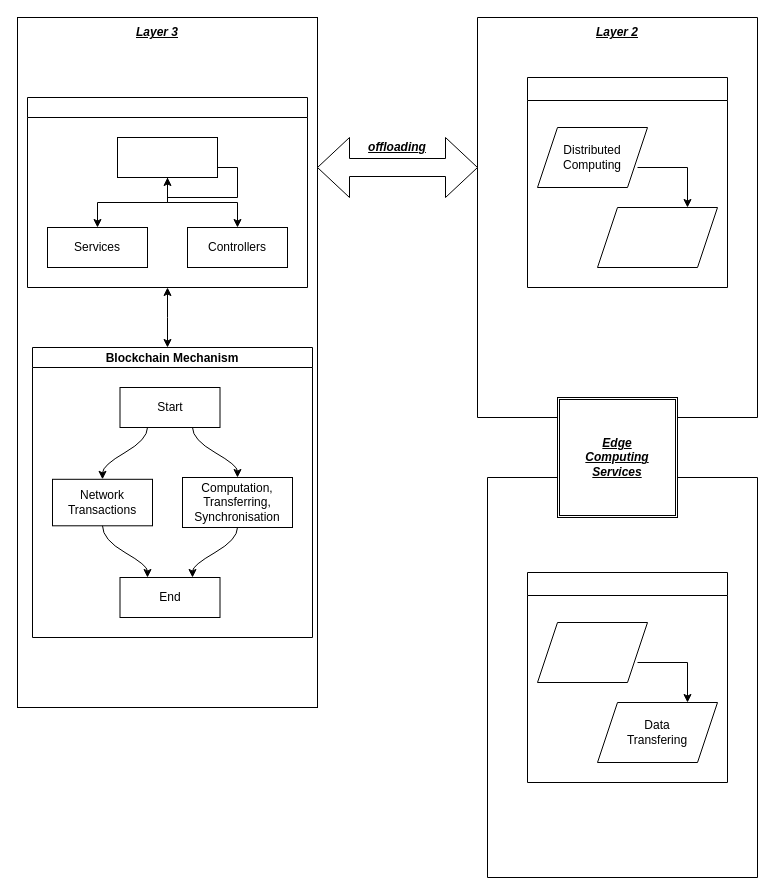
This 775x895 diagram has some shape labels left out. Here are the shapes that lost their labels. From the top down, the box of each, then its label:
(116, 136, 218, 178): Enbled Devices
(26, 96, 308, 288): IOT Layer
(526, 76, 728, 288): MEC Server
(596, 206, 718, 268): Radio Access Network
(536, 622, 648, 682): Data Storage
(526, 572, 728, 782): Cloud Server
